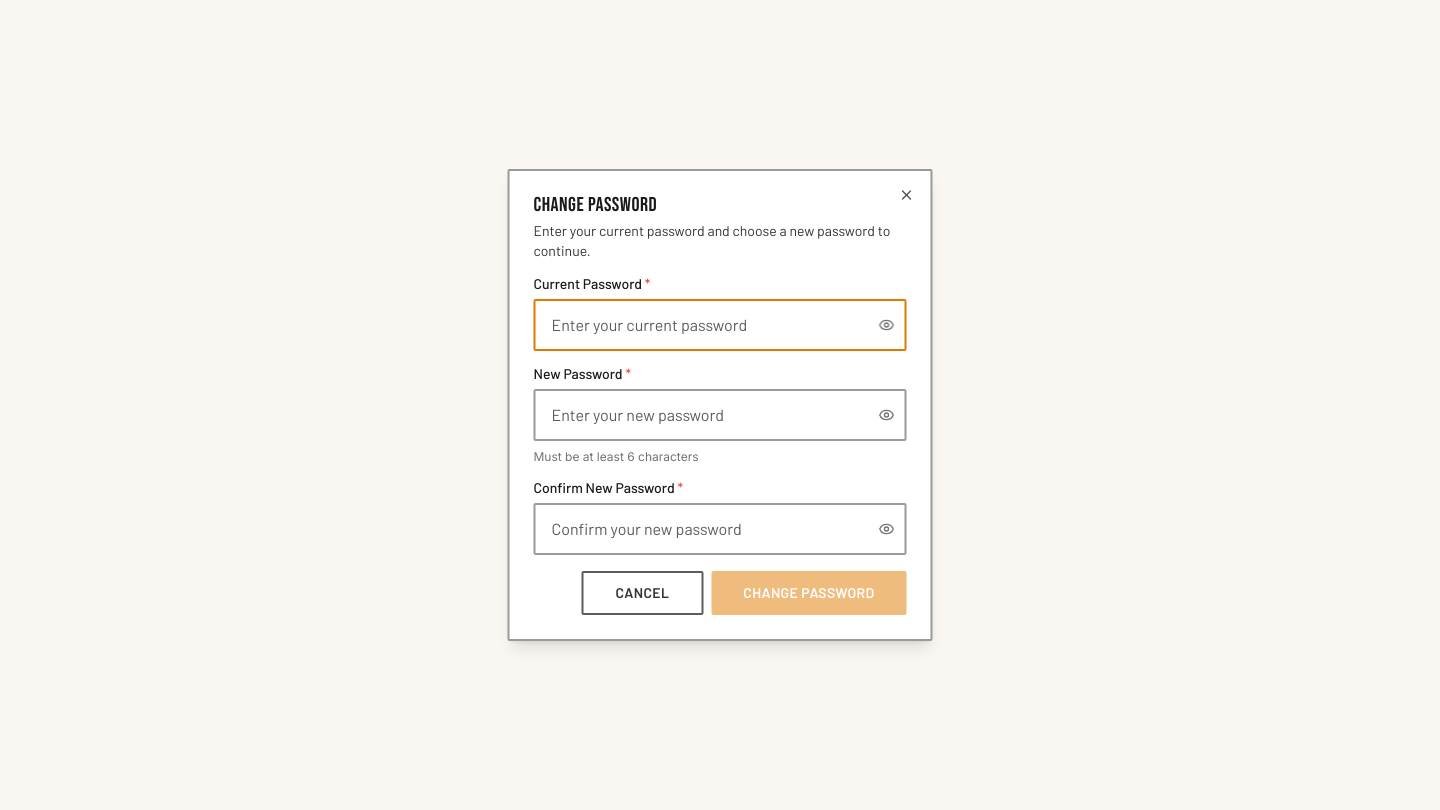
it: PasswordChangeForm › Password Visibility Toggle › should toggle new password visibility
Click the button named "Show new password" at (886, 415), box 878,407 -> 894,423
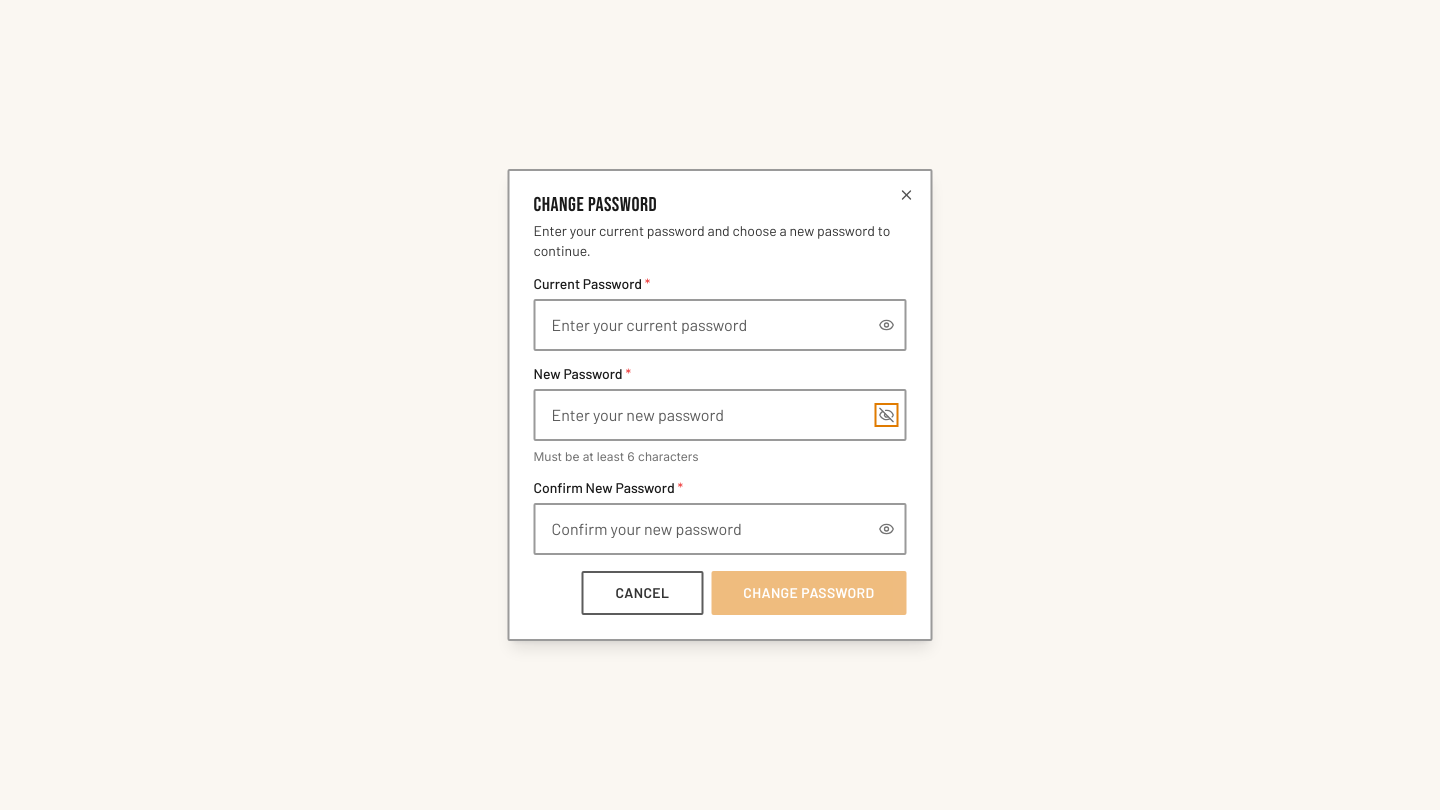
Expected: the button named "Hide new password" is shown, 878,407 -> 894,423
